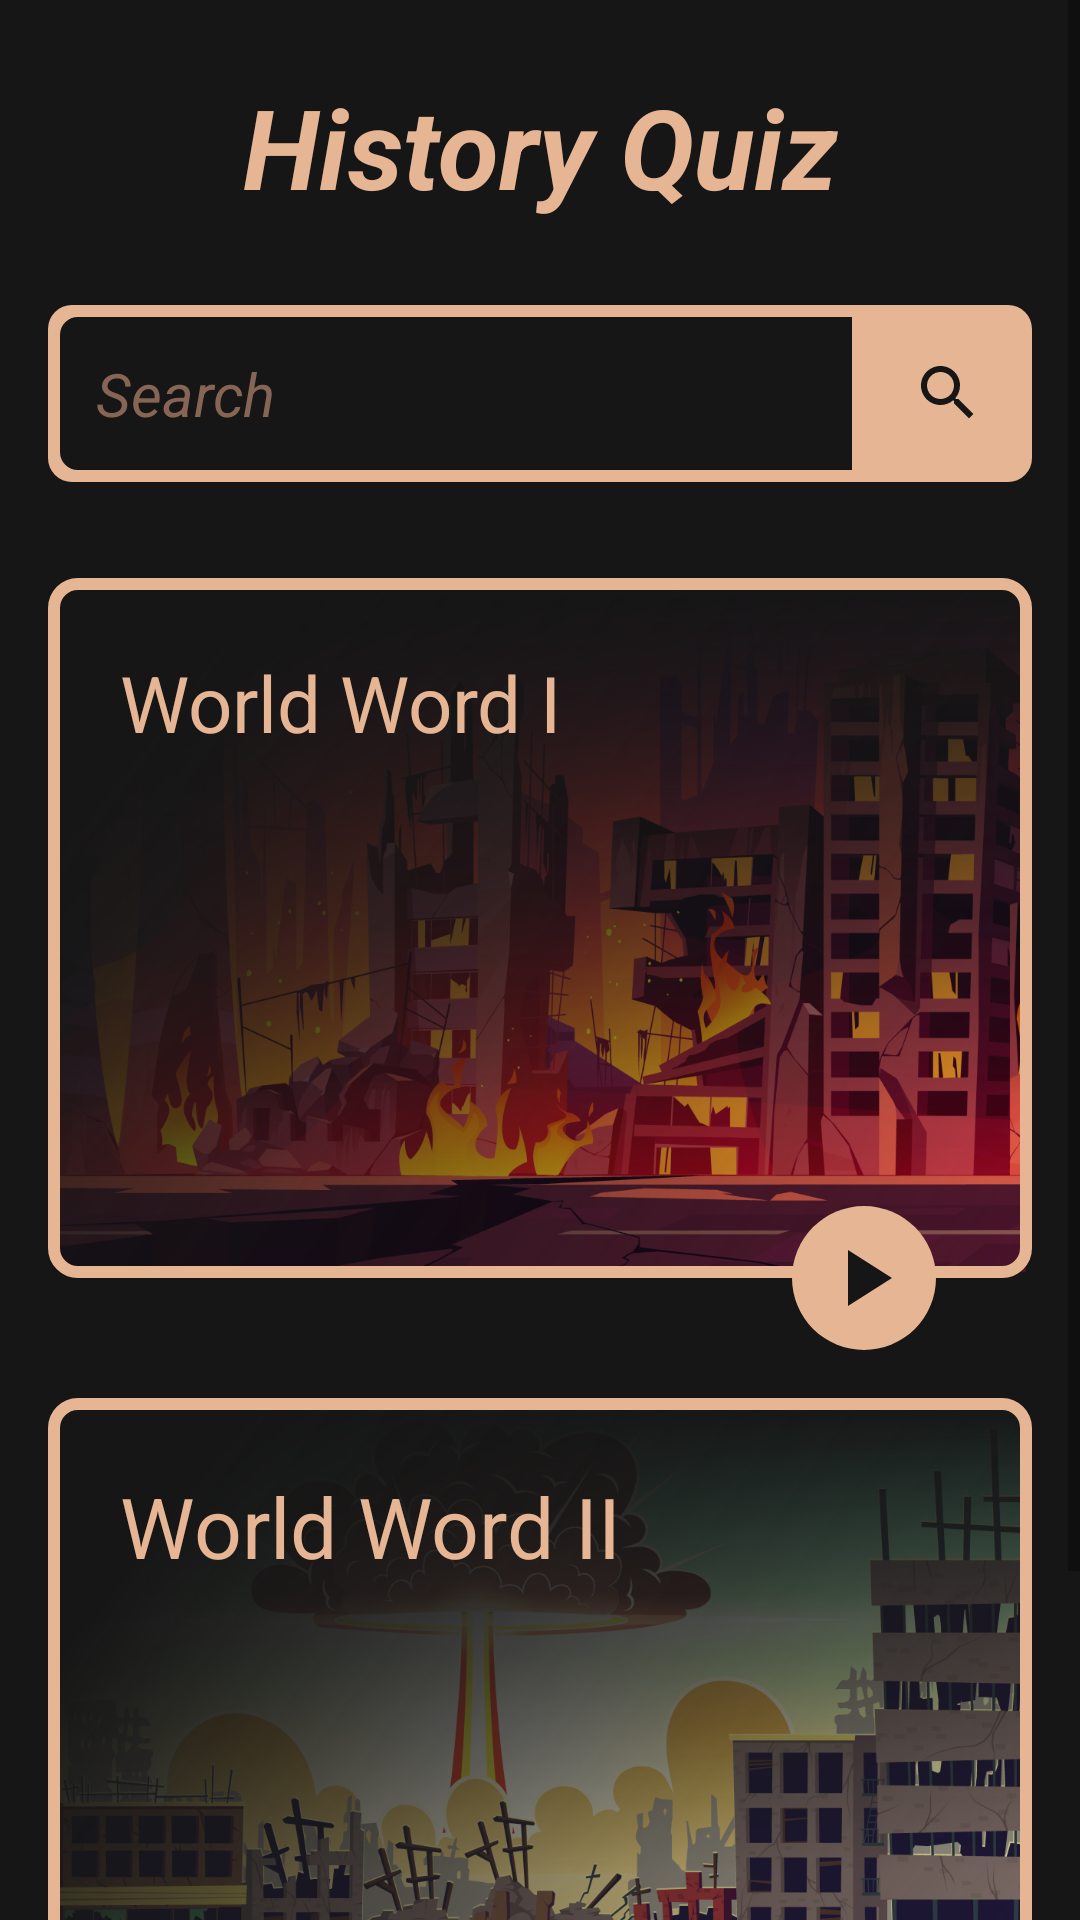

Screen size 1080 × 1920. Icon name, then its center in pixels as point (x, y):
Start: point (864, 1278)
